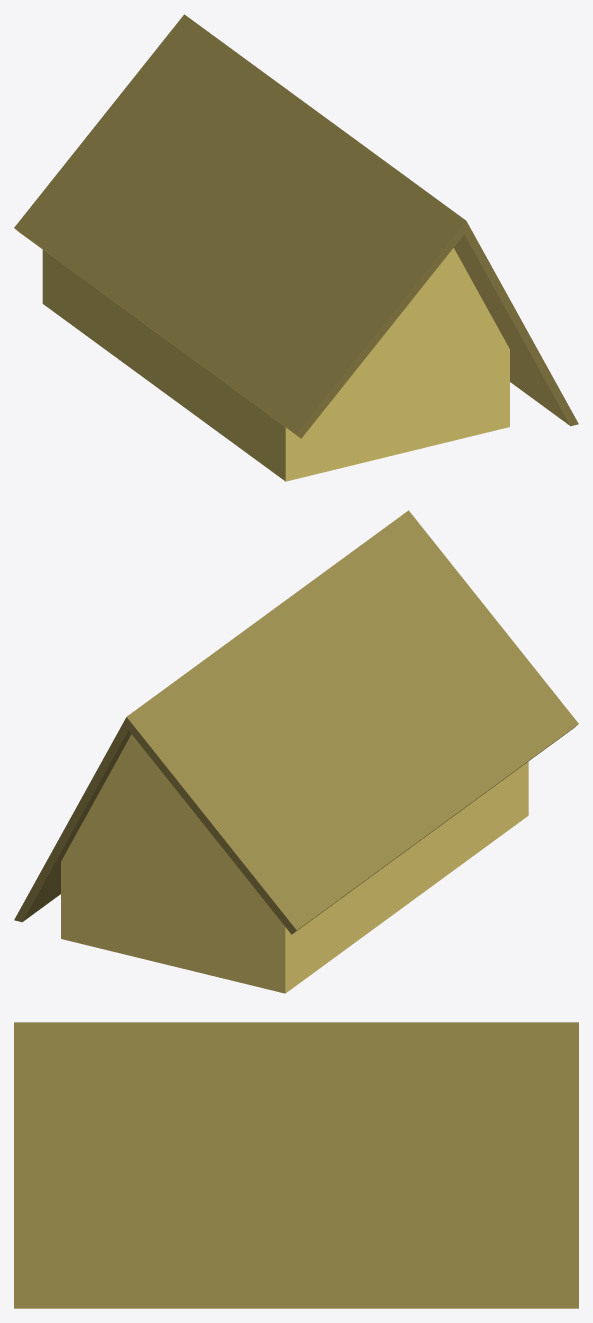
Rendered from result.glb.
3 views of the same model, one above another, from view 1: azimuth 30°, elevation 25°; view 2: azimuth 150°, elevation 25°; view 3: azimuth 270°, elevation 25° (orthographic).
Visible parts, largest first — view 1: e5948779-20af-4791-ac0e-7ec83fd2d89a__undefined (×2), ed553824-889c-4d55-af3a-a359285ecca8__undefined; view 2: e5948779-20af-4791-ac0e-7ec83fd2d89a__undefined (×2), ed553824-889c-4d55-af3a-a359285ecca8__undefined; view 3: e5948779-20af-4791-ac0e-7ec83fd2d89a__undefined.
Part boxes in pixels (<box>): e5948779-20af-4791-ac0e-7ec83fd2d89a__undefined (×2): <box>14,14,578,438</box>; ed553824-889c-4d55-af3a-a359285ecca8__undefined: <box>42,248,509,481</box>; e5948779-20af-4791-ac0e-7ec83fd2d89a__undefined (×2): <box>14,510,578,934</box>; ed553824-889c-4d55-af3a-a359285ecca8__undefined: <box>61,734,528,993</box>; e5948779-20af-4791-ac0e-7ec83fd2d89a__undefined: <box>14,1022,578,1308</box>.
Size of the model in its own units: 950 by 791 by 1641.
